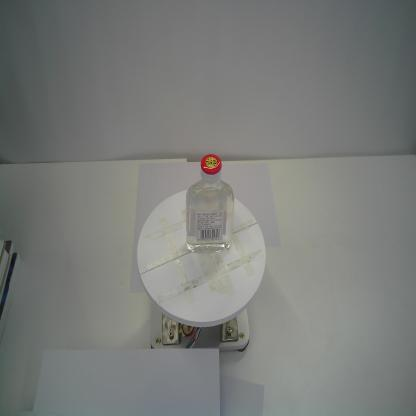Alcohol: (184, 153, 236, 257)
